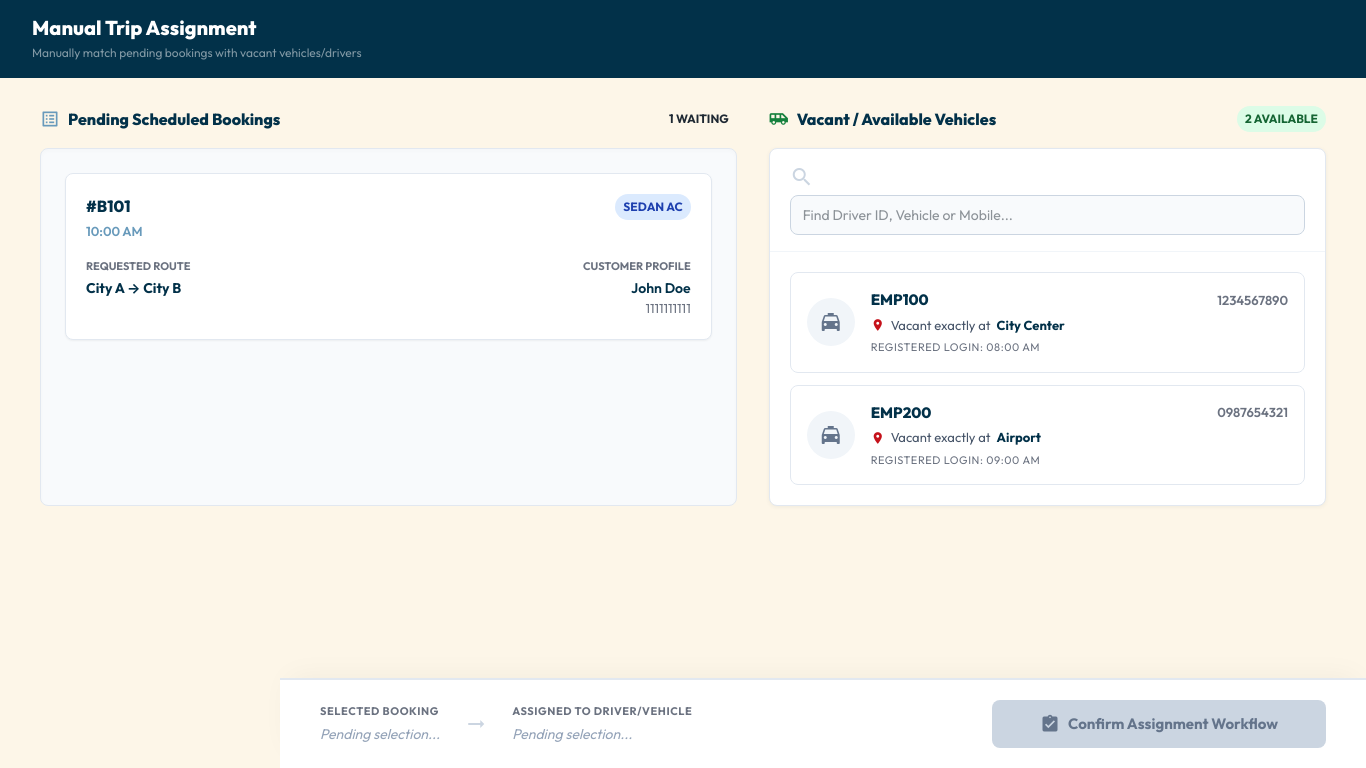
Scenario: search filters drivers
Check: the text "EMP100" is shown, box x1=871 y1=289 x2=929 y2=312
In the field with placeholder "Find Driver ID, Vehicle or Mobile...": (1047, 215) x1=790 y1=195 x2=1305 y2=235, type "EMP200"
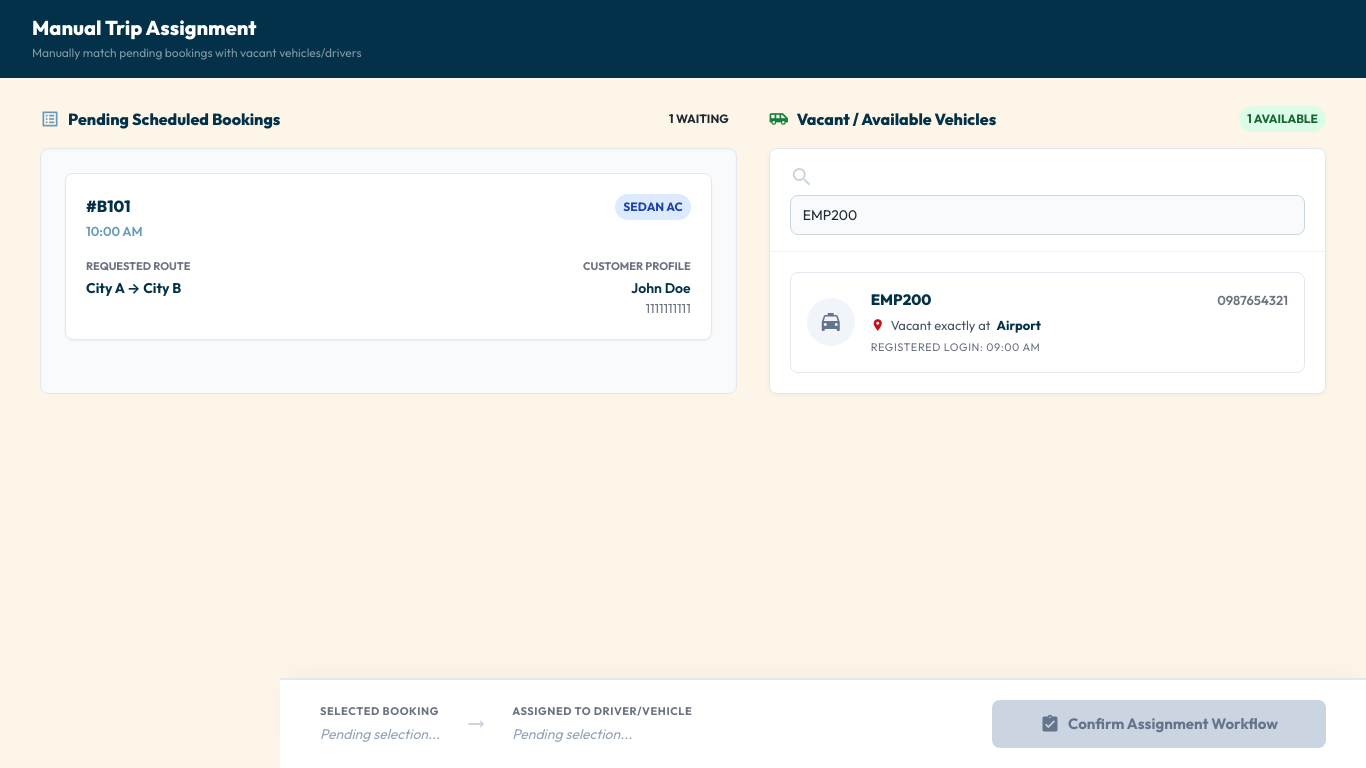
Check: the text "EMP200" is shown, box x1=871 y1=289 x2=932 y2=312
Check: the text "EMP100" is gone
